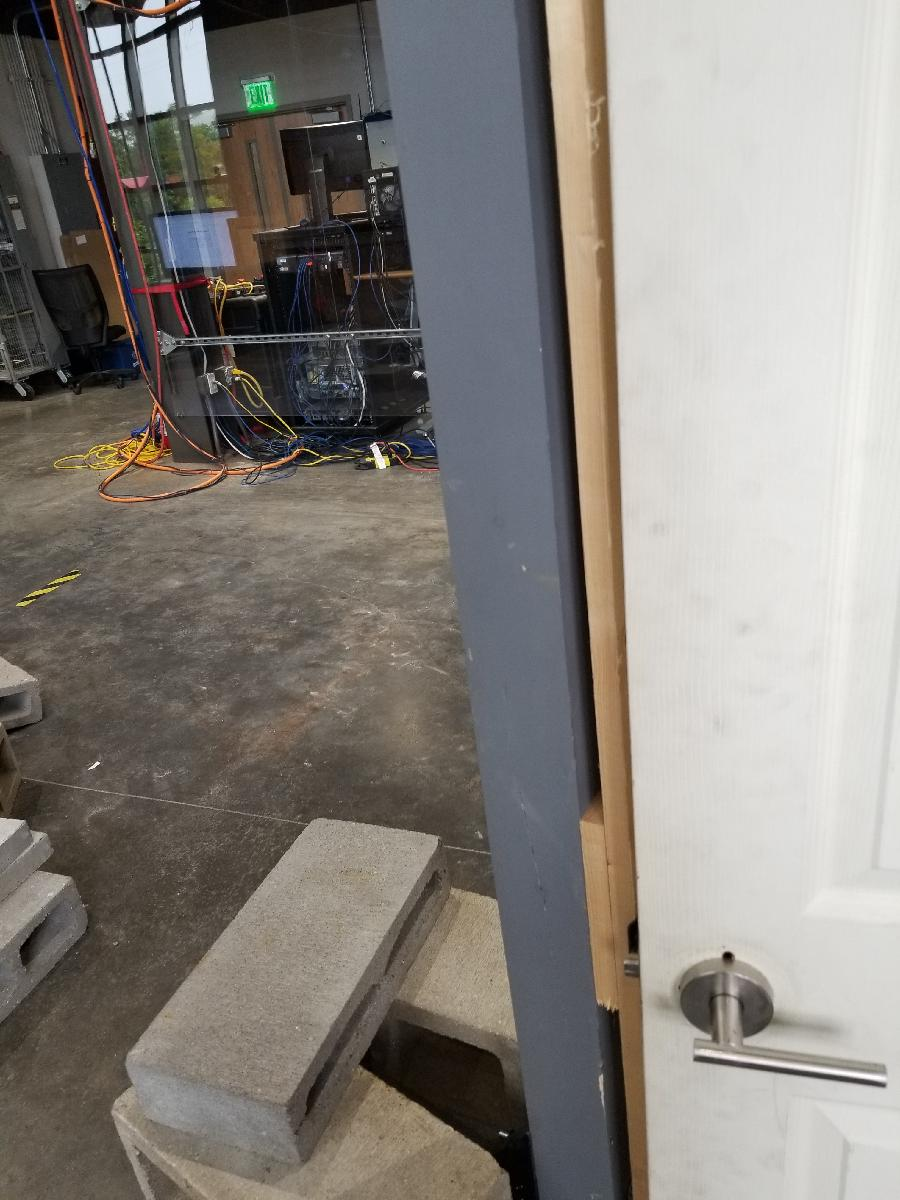doorHandle: (669, 945, 895, 1112)
